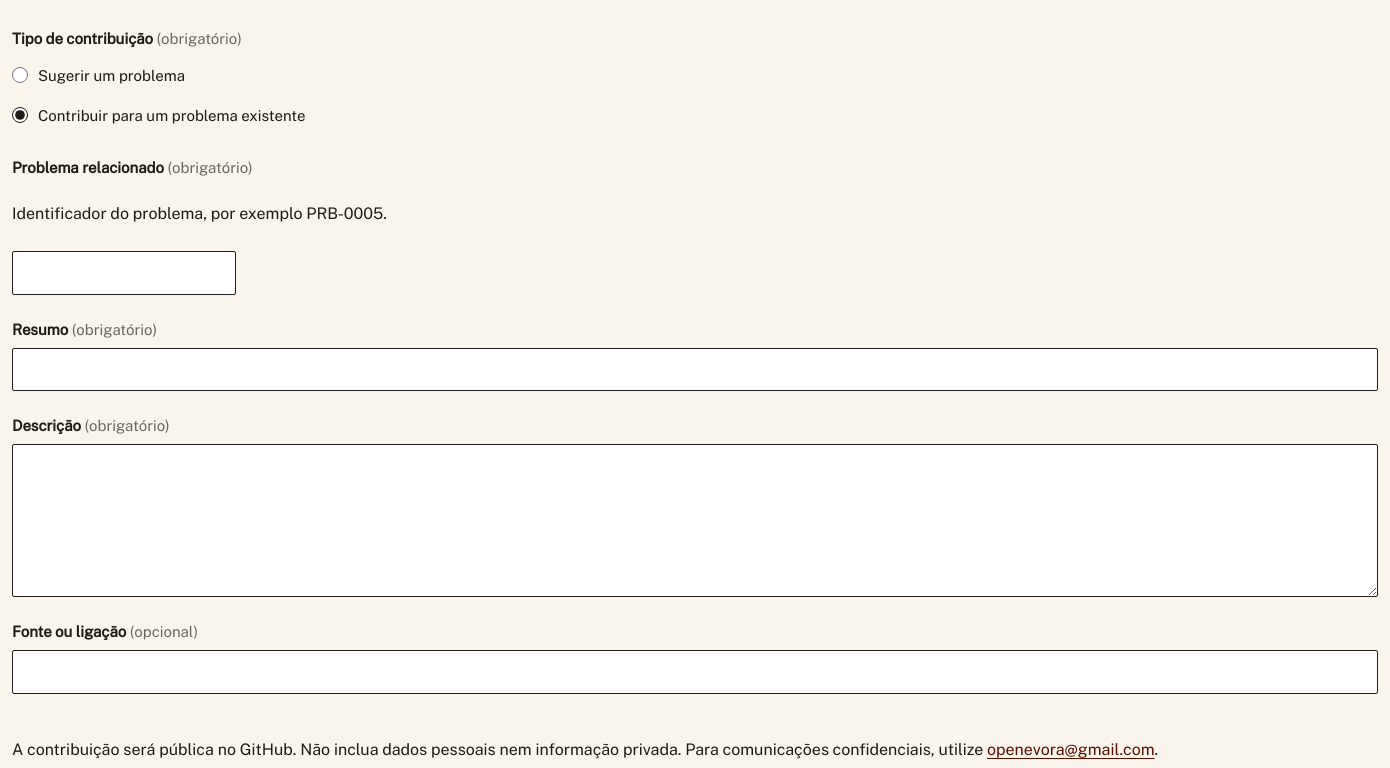
Test: ContributionForm — validation › requires a canonical related PRB for an existing-problem contribution
The width and height of the screenshot is (1390, 768).
In the field labelled "Resumo (obrigatório)": [695, 369] box [12,348,1378,391], type "Resumo"
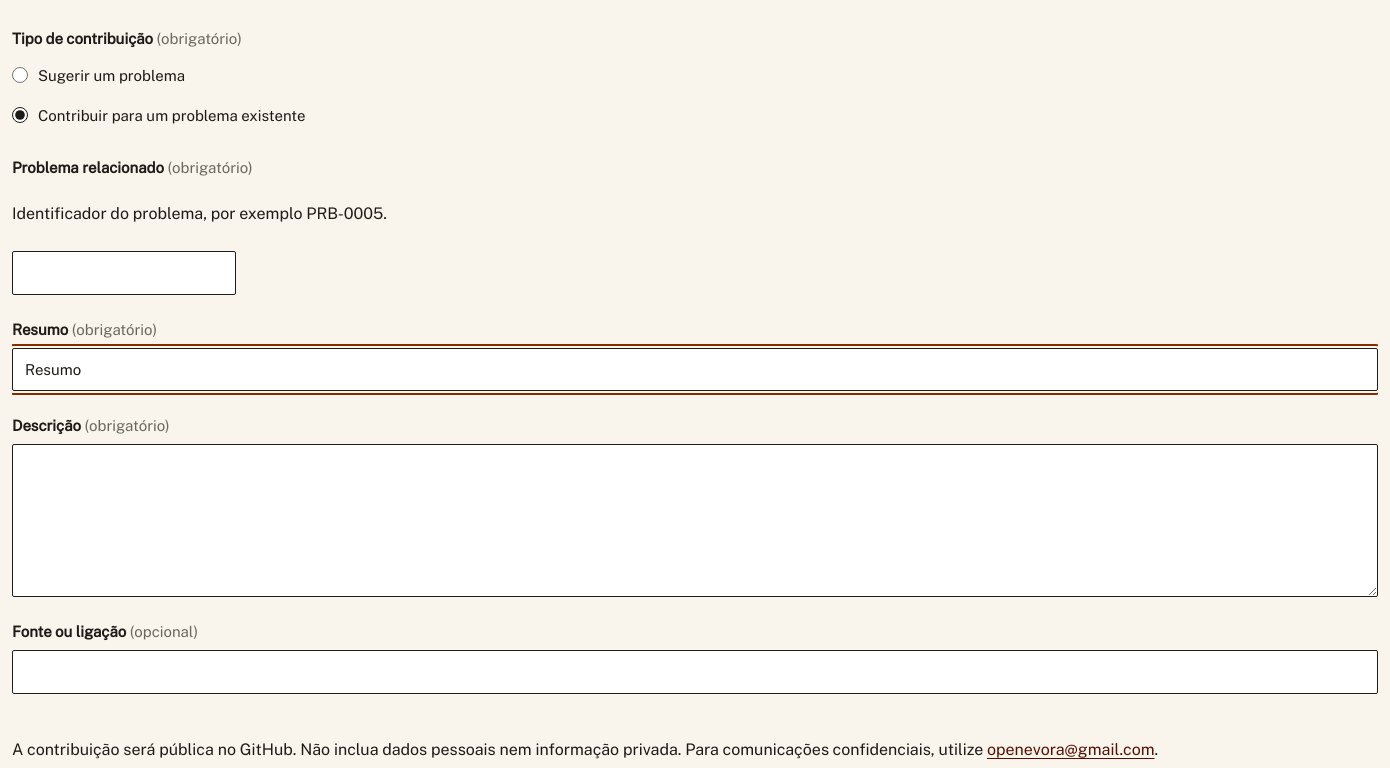
In the text box labelled "Descrição (obrigatório)": [695, 521] box [12,444,1378,597], type "Descrição"
(page scrolled)
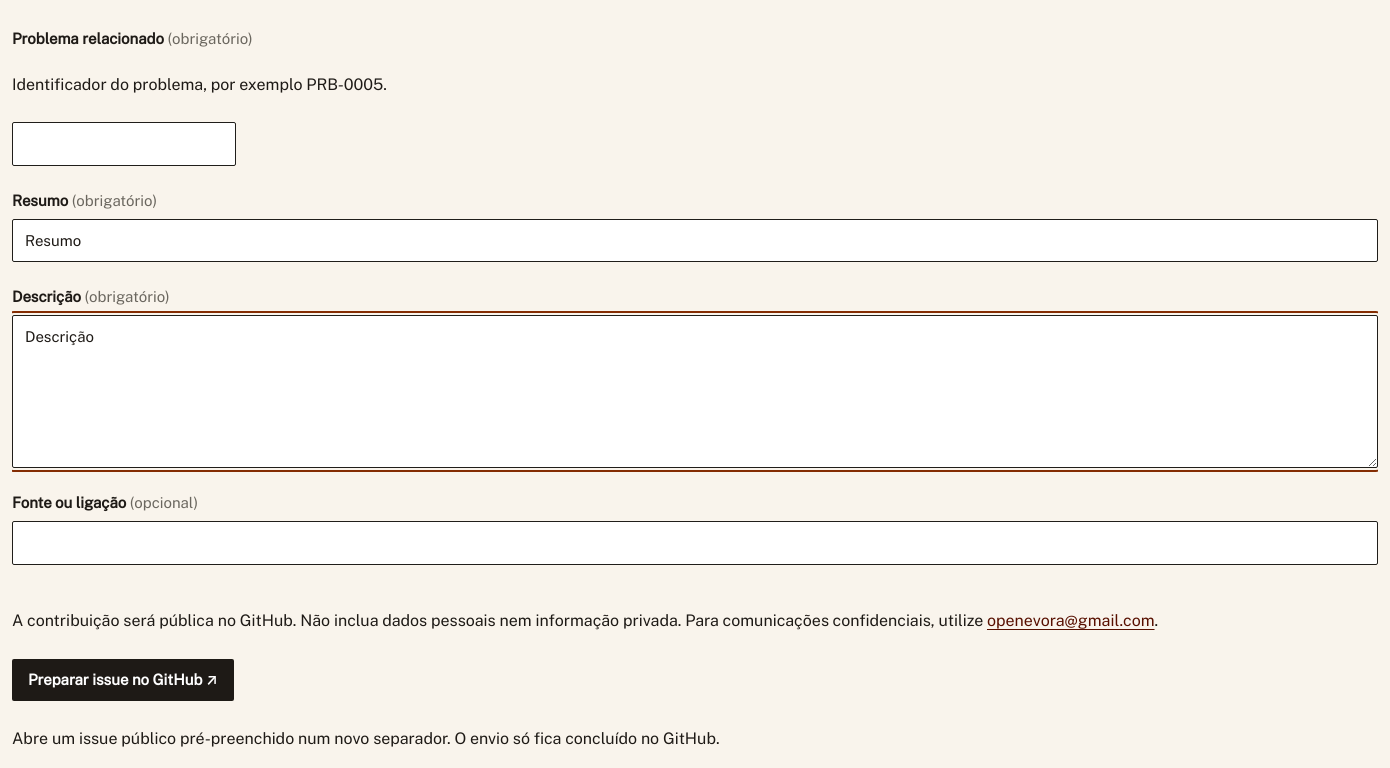
Click the button "Preparar issue no GitHub ↗": [123, 680] box [12,659,234,701]
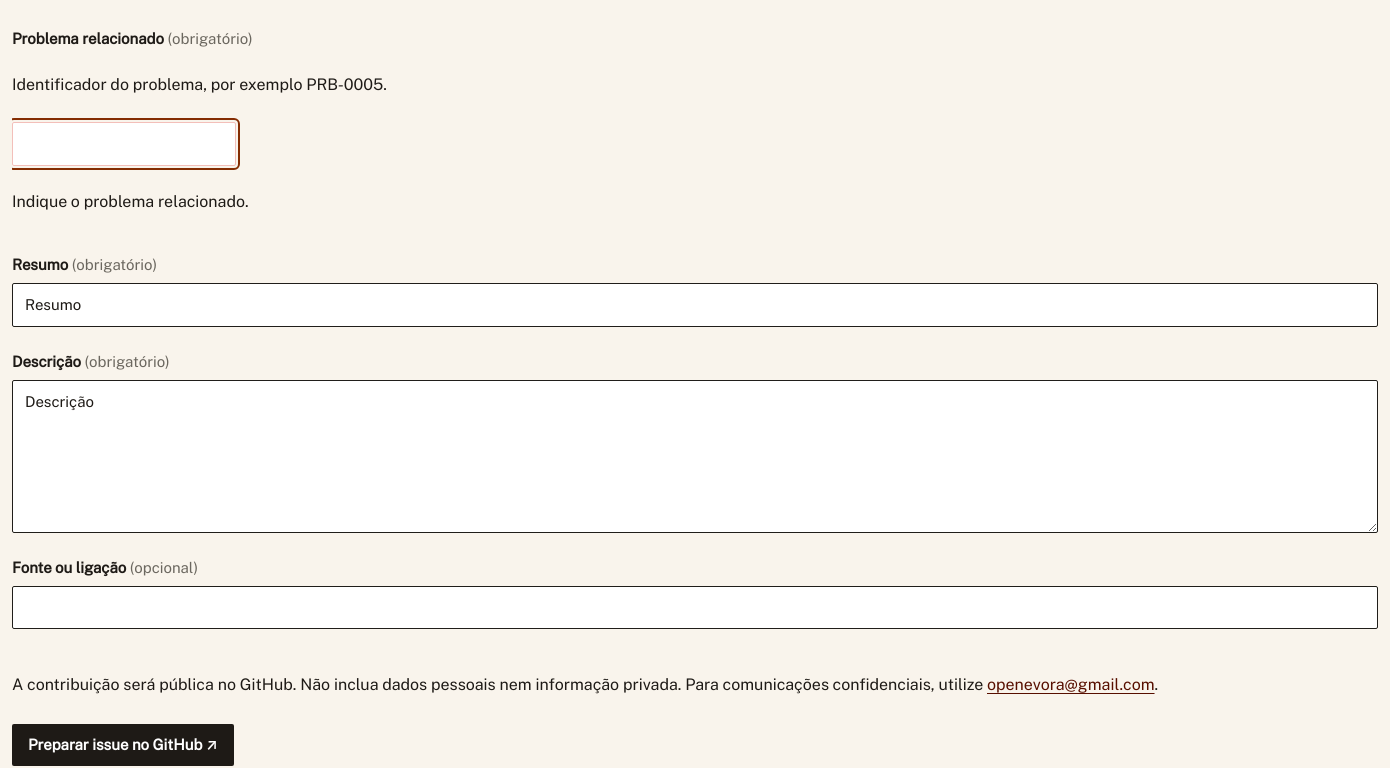
In the field labelled "Problema relacionado (obrigatório)": [124, 144] box [12,122,236,166], type "problema 5"
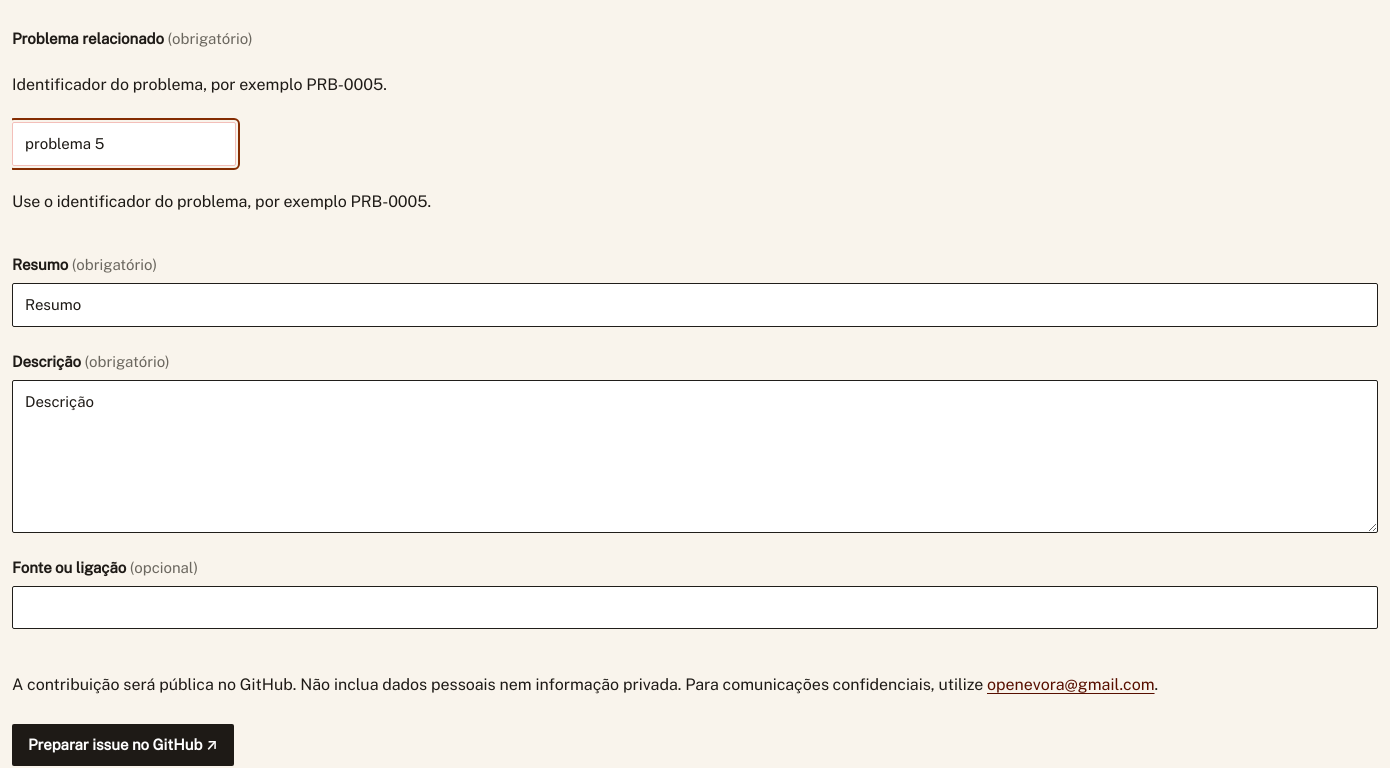
Expected: the text "Use o identificador do problema, por exemplo PRB-0005." is shown, [12,192,431,210]
